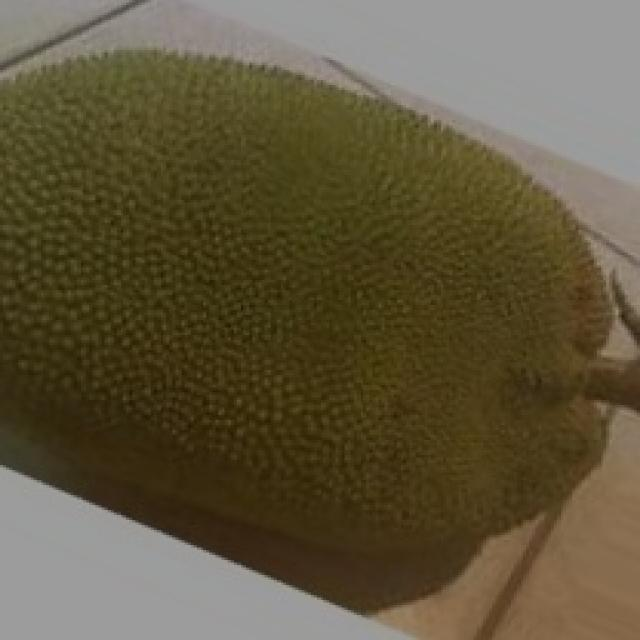Fruit: (0, 15, 403, 337), (274, 28, 640, 372)
